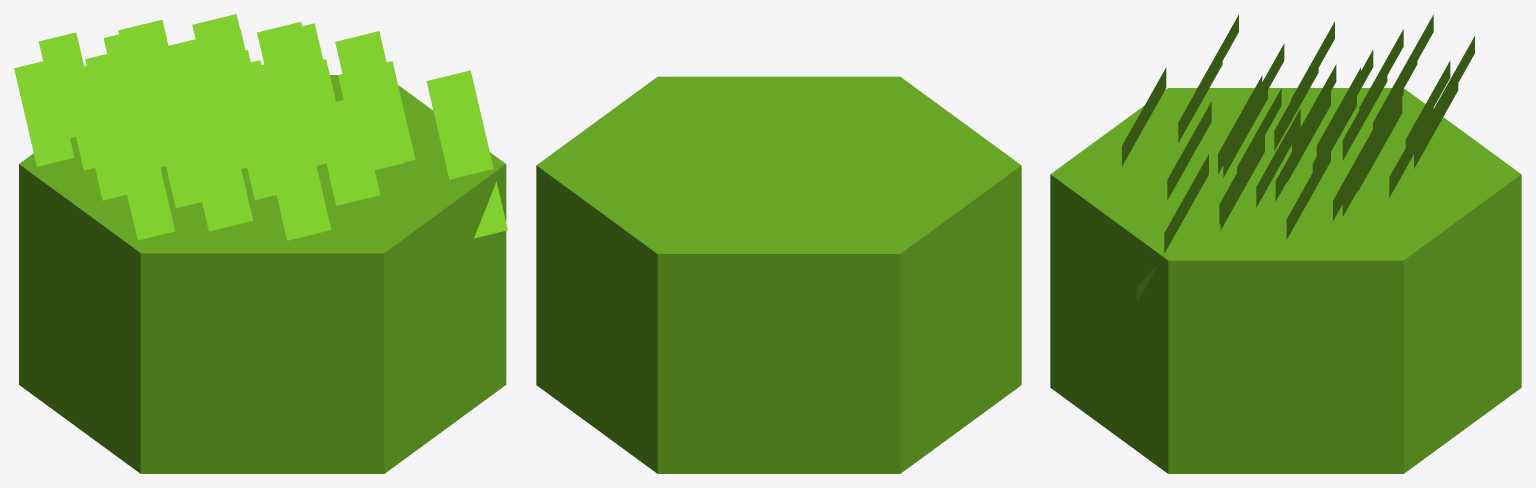
The model's file is Tile_Grass_Woods_02_Normal.gltf.
The picture shows the model from 3 angles, left to right: view 1: azimuth 30°, elevation 25°; view 2: azimuth 150°, elevation 25°; view 3: azimuth 270°, elevation 25°; orthographic projection. The views are drawn at different scales.
Visible parts, largest first — view 1: Tile_Grass_Woods_02_Normal, decorator_natural_grasslands; view 2: Tile_Grass_Woods_02_Normal; view 3: Tile_Grass_Woods_02_Normal, decorator_natural_grasslands.
Boxes of the visible parts, bbox=[...] form: Tile_Grass_Woods_02_Normal: bbox=[19, 75, 506, 473]; decorator_natural_grasslands: bbox=[14, 14, 507, 240]; Tile_Grass_Woods_02_Normal: bbox=[536, 76, 1021, 473]; Tile_Grass_Woods_02_Normal: bbox=[1050, 88, 1521, 473]; decorator_natural_grasslands: bbox=[1122, 14, 1474, 301].
Bounding box in the file's own units: 1.73 × 1.37 × 2.
2 materials, 2 textured.
